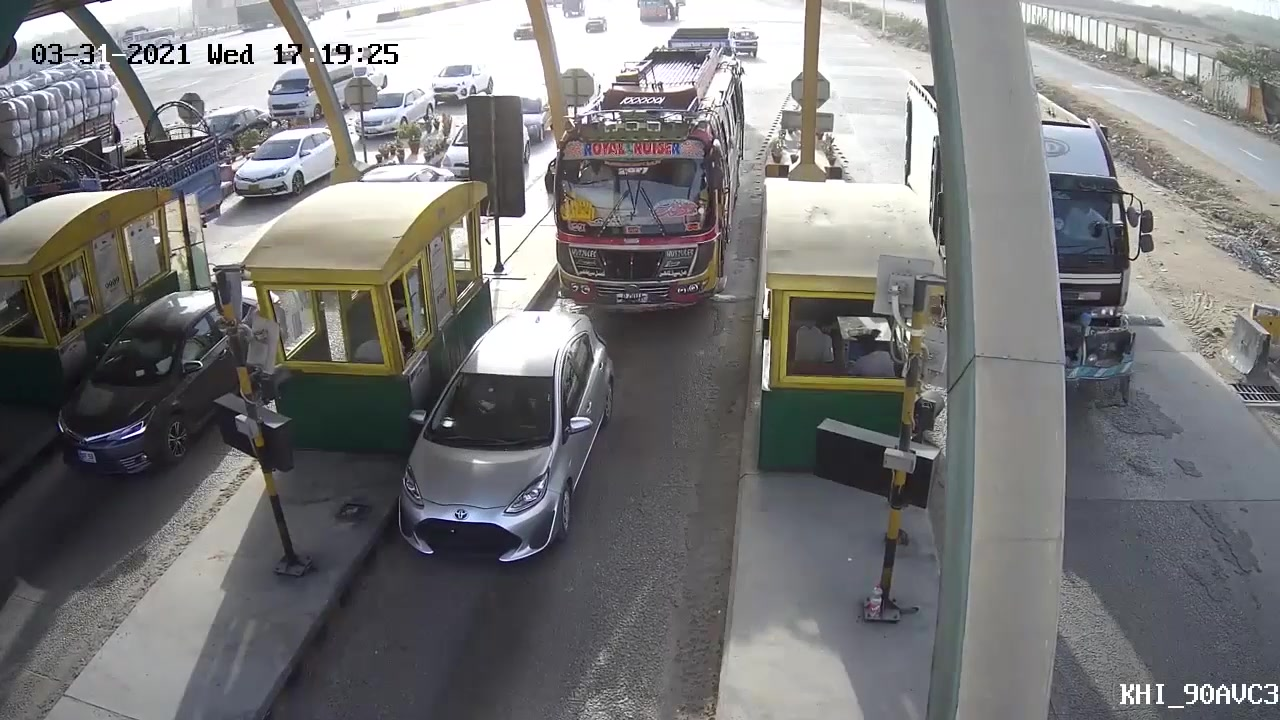F1: (372, 305, 625, 575)
F4: (544, 42, 743, 312)
